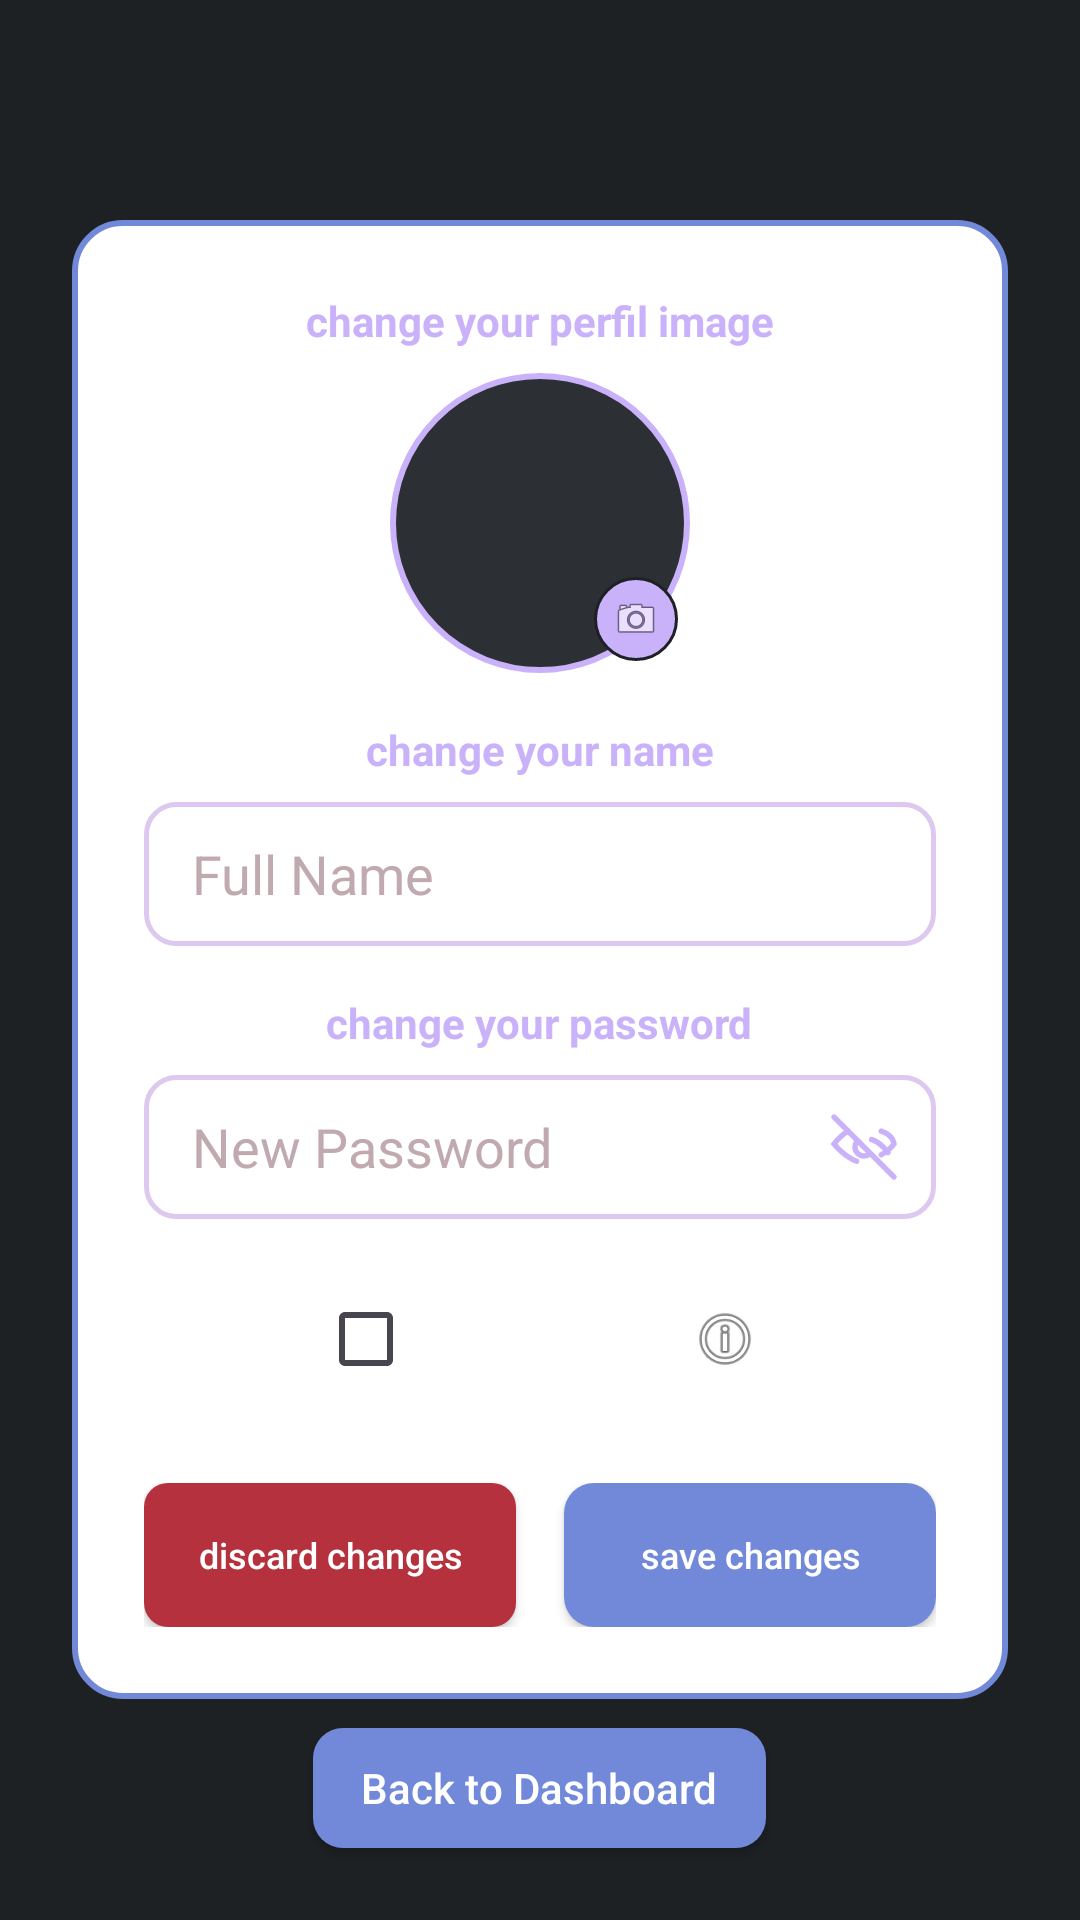

Named icons in this screenshot (1080px×1920px) and their centers, (x=x, y=y):
camera: (x=636, y=619)
info details: (x=725, y=1339)
Toggle visibility: (x=864, y=1147)
